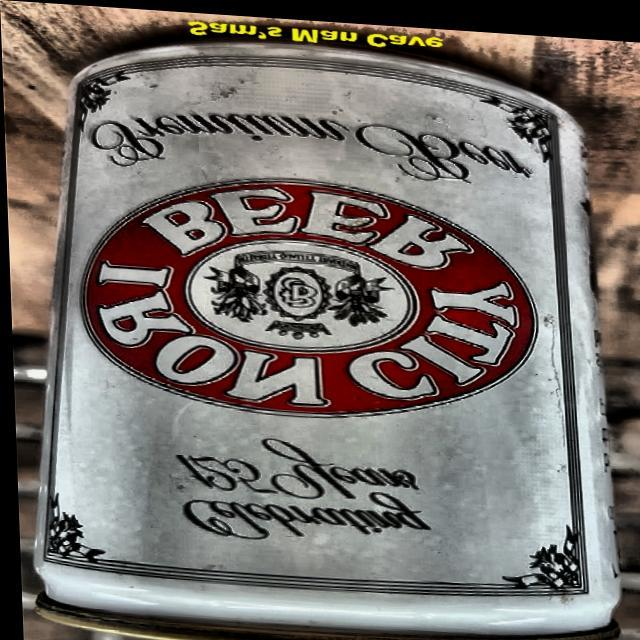Aluminum Can: (1, 18, 624, 640)
